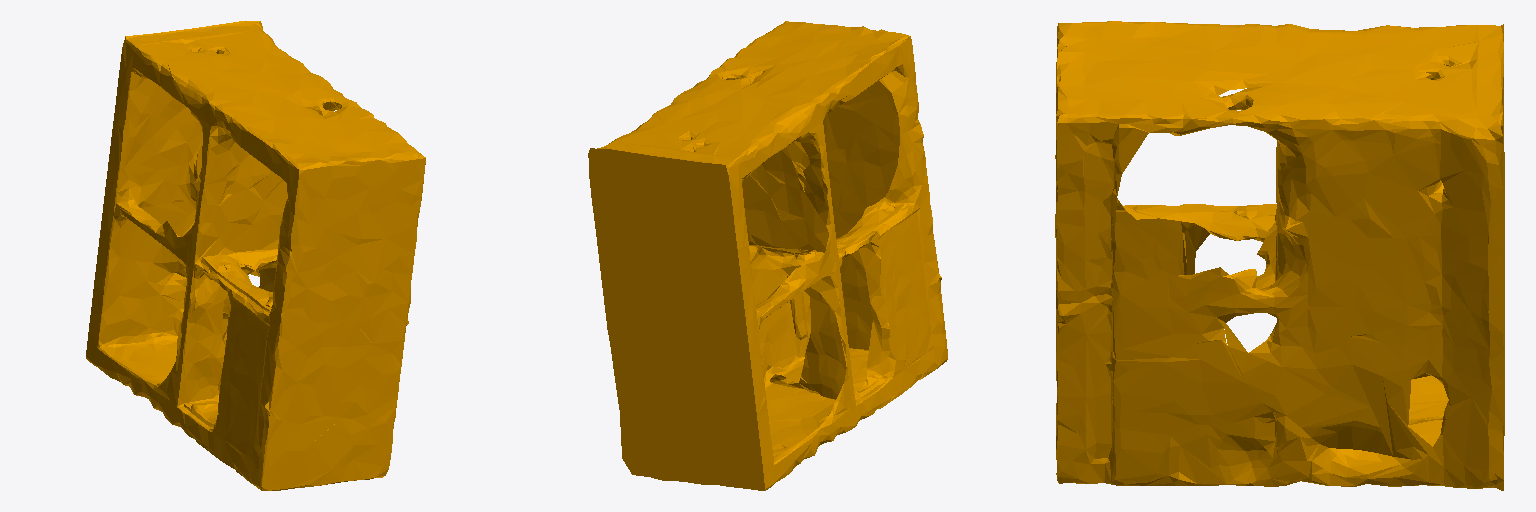
robot.urdf — ikea:
<?xml version="1.0"?>
<robot name="ikea">
  <link name ="rb0">
    <visual>
      <origin xyz='0.214534 0.369400 0.388295' rpy='-3.128109 1.399800 3.141592'/>
      <geometry>
        <mesh filename="package://articulated_objects_db/data/objects/ikea/meshes/ikea_base.obj"  scale="1 1 1" />
      </geometry>
    </visual>
  </link>
  <joint name="j_0_1" type="prismatic">
    <parent link="rb0"/>
    <child link="rb1"/>
    <origin xyz="-0.00470375613192 -0.265483350168 0.148710377102" rpy="0 0 0 "/>
    <axis xyz="-0.992891801913 0.00939405813491 0.118649152406"/>
    <limit effort="30" velocity="1.0" lower="-3.1416" upper="3.1416"/>
  </joint>
  <joint name="j_0_fixed" type="fixed">
    <parent link="rb1"/>
    <child link="rb1_marker"/>
      <origin xyz="0.0 0.0 0.0" rpy="-1.47825929598 0.0377409359283 1.38154760502"/>
    <limit effort="30" velocity="1.0" lower="-3.1416" upper="3.1416"/>
  </joint>
  <joint name="j_0_2" type="revolute">
    <parent link="rb0"/>
    <child link="rb2"/>
    <origin xyz="0.0528845779085 -0.174184294123 0.421583593326" rpy="0 0 0 "/>
    <axis xyz="-0.123897007593 -0.982669942962 0.137874271382"/>
    <limit effort="30" velocity="1.0" lower="-3.1416" upper="3.1416"/>
  </joint>
  <joint name="j_1_fixed" type="fixed">
    <parent link="rb2"/>
    <child link="rb2_marker"/>
      <origin xyz="-0.021688130989 0.0338331141182 0.219088075156" rpy="-0.0633759890146 0.765436451842 -2.88516624353"/>
    <limit effort="30" velocity="1.0" lower="-3.1416" upper="3.1416"/>
  </joint>
  <link name ="rb1">
  </link>
  <link name ="rb1_marker">
    <visual>
      <origin xyz='0.213350 -0.079374 -0.141522' rpy='-0.105485 -1.381347 -3.040520'/>
      <geometry>
        <mesh filename="package://articulated_objects_db/data/objects/ikea/meshes/ikea_drawer.obj"  scale="1 1 1" />
      </geometry>
    </visual>
  </link>
  <link name ="rb2">
  </link>
  <link name ="rb2_marker">
    <visual>
      <origin xyz='0.208228 0.174790 -0.206173' rpy='-1.119760 -0.776310 -0.586333'/>
      <geometry>
        <mesh filename="package://articulated_objects_db/data/objects/ikea/meshes/ikea_door.obj"  scale="1 1 1" />
      </geometry>
    </visual>
  </link>
</robot>

--- Render facts (derived) ---
3 views of the same robot in one strip: view 1: azimuth 30°, elevation 25°; view 2: azimuth 150°, elevation 25°; view 3: azimuth 270°, elevation 25° (orthographic).
Model ikea with 5 links and 4 joints (1 revolute, 1 prismatic, 2 fixed), rooted at rb0, posed every joint at zero.
Visible links, largest first — view 1: rb0; view 2: rb0; view 3: rb0.
Boxes of the visible links, box(x1,y1,x2,y2) form: rb0: box(86, 21, 425, 490); rb0: box(588, 21, 947, 490); rb0: box(1055, 21, 1504, 490).
Bounding box of the posed robot: 0.4548 × 0.7898 × 0.8023 m (x, y, z).
Meshes: 3 distinct files referenced, 1 mesh visuals loaded (1 OBJ); not drawn: 1 (reference not matched to a file when rendering), 1 (file found but could not be loaded).